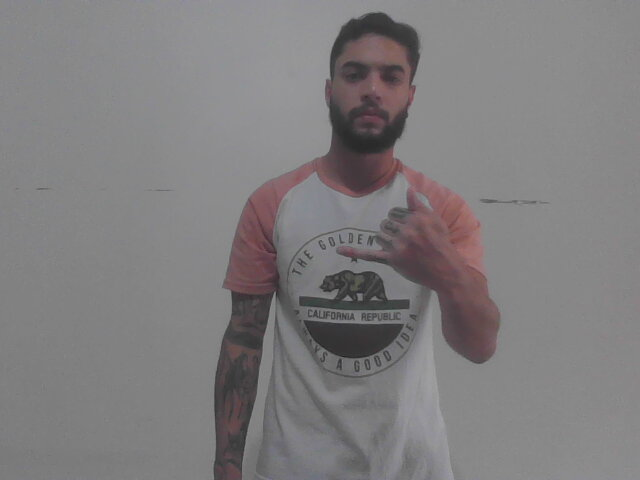j: (330, 178, 466, 303)
